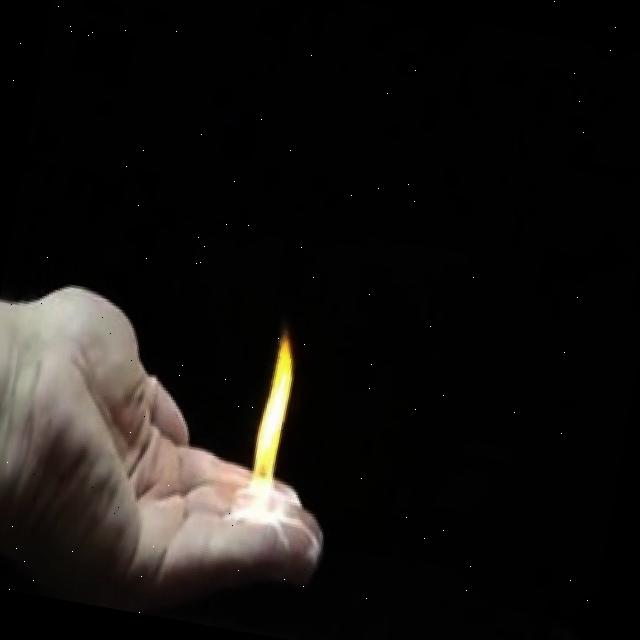fire: (228, 409, 286, 534)
